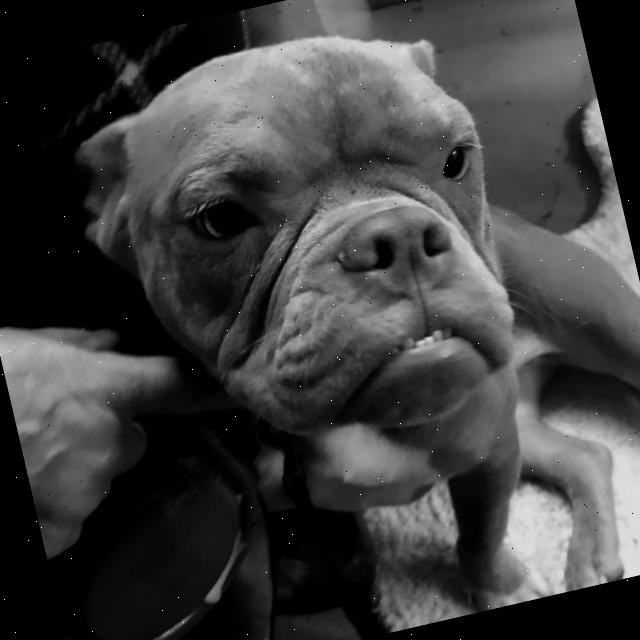french_bulldog_dog: (38, 0, 572, 509)
